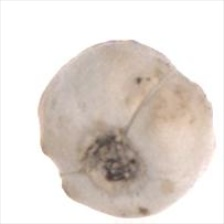L4: (37, 39, 215, 217)
